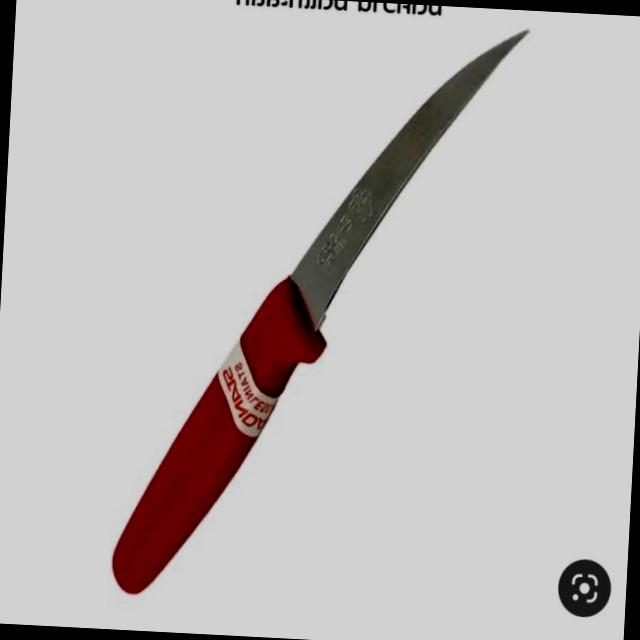knife: (96, 0, 536, 618)
